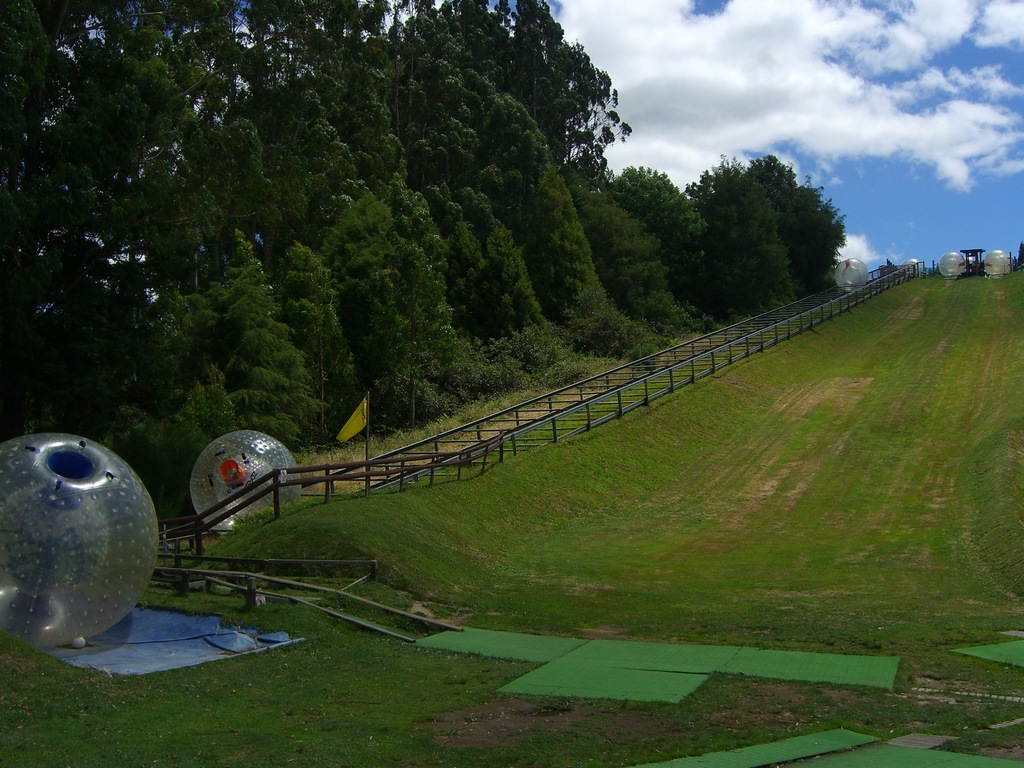Tree: (0, 0, 844, 536)
